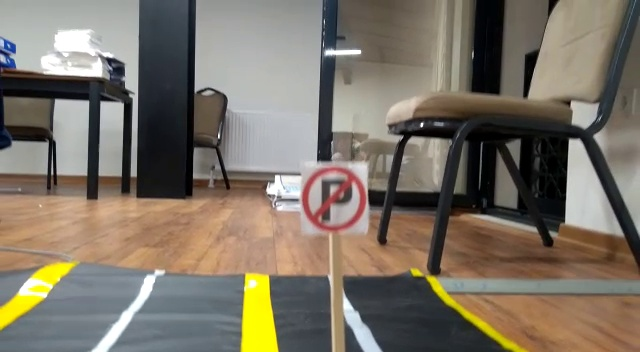park_yapilmaz: (301, 165, 372, 236)
